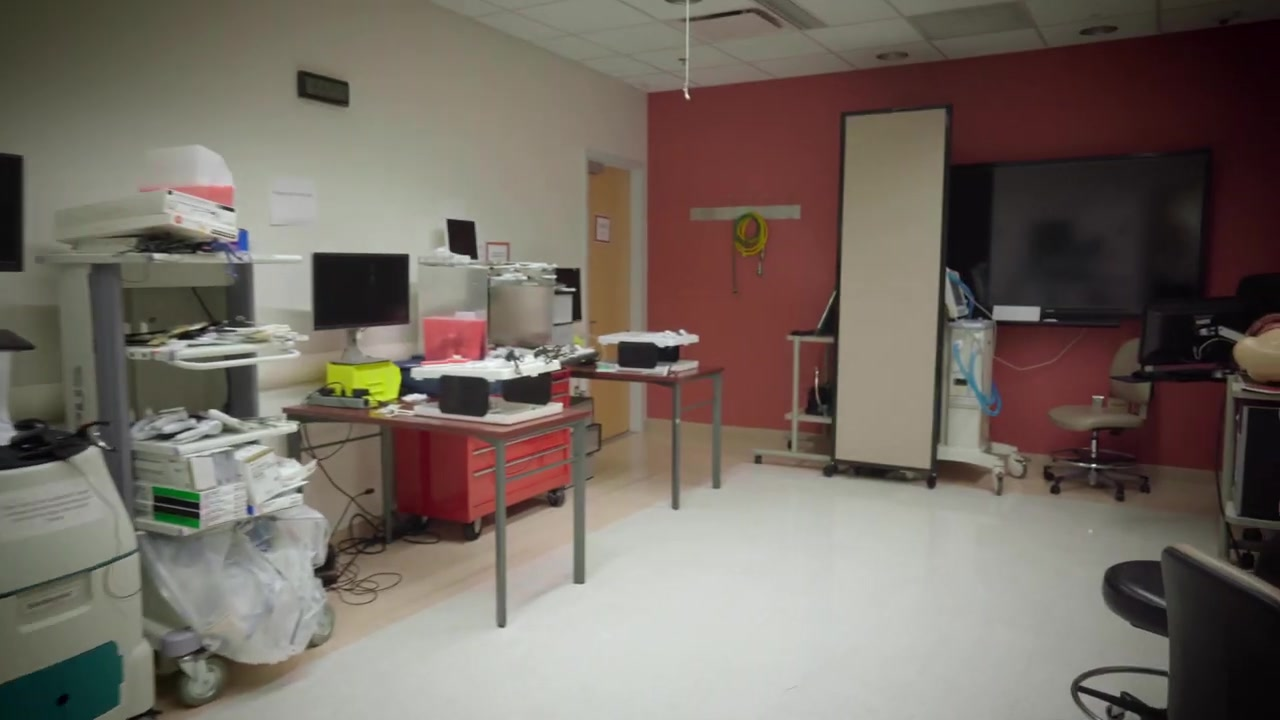TV: (941, 145, 1214, 331)
breathing_tube: (943, 333, 1007, 423)
chair: (1157, 541, 1280, 720), (1043, 340, 1158, 503), (1068, 551, 1167, 711)
computer: (308, 249, 413, 333), (1, 145, 30, 279), (445, 214, 483, 262), (558, 267, 583, 321)
door_handle: (588, 317, 600, 330)
medical_drawer: (394, 365, 569, 538)
table: (282, 391, 598, 625), (568, 359, 727, 510)
utility_cart: (780, 326, 839, 468)
ventilator: (930, 264, 1045, 489)
